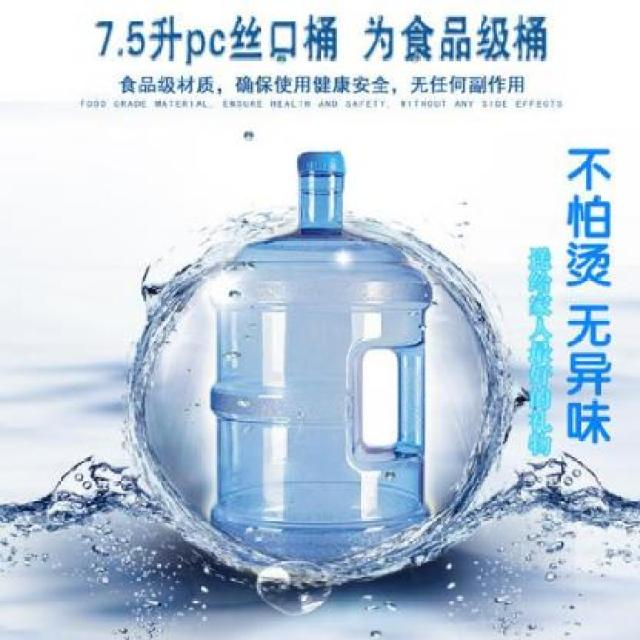coolerbottle: (206, 143, 439, 569)
